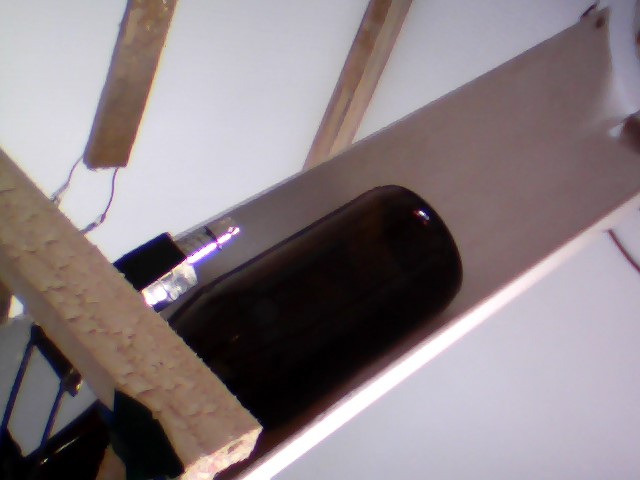vidrio: (180, 177, 470, 428)
